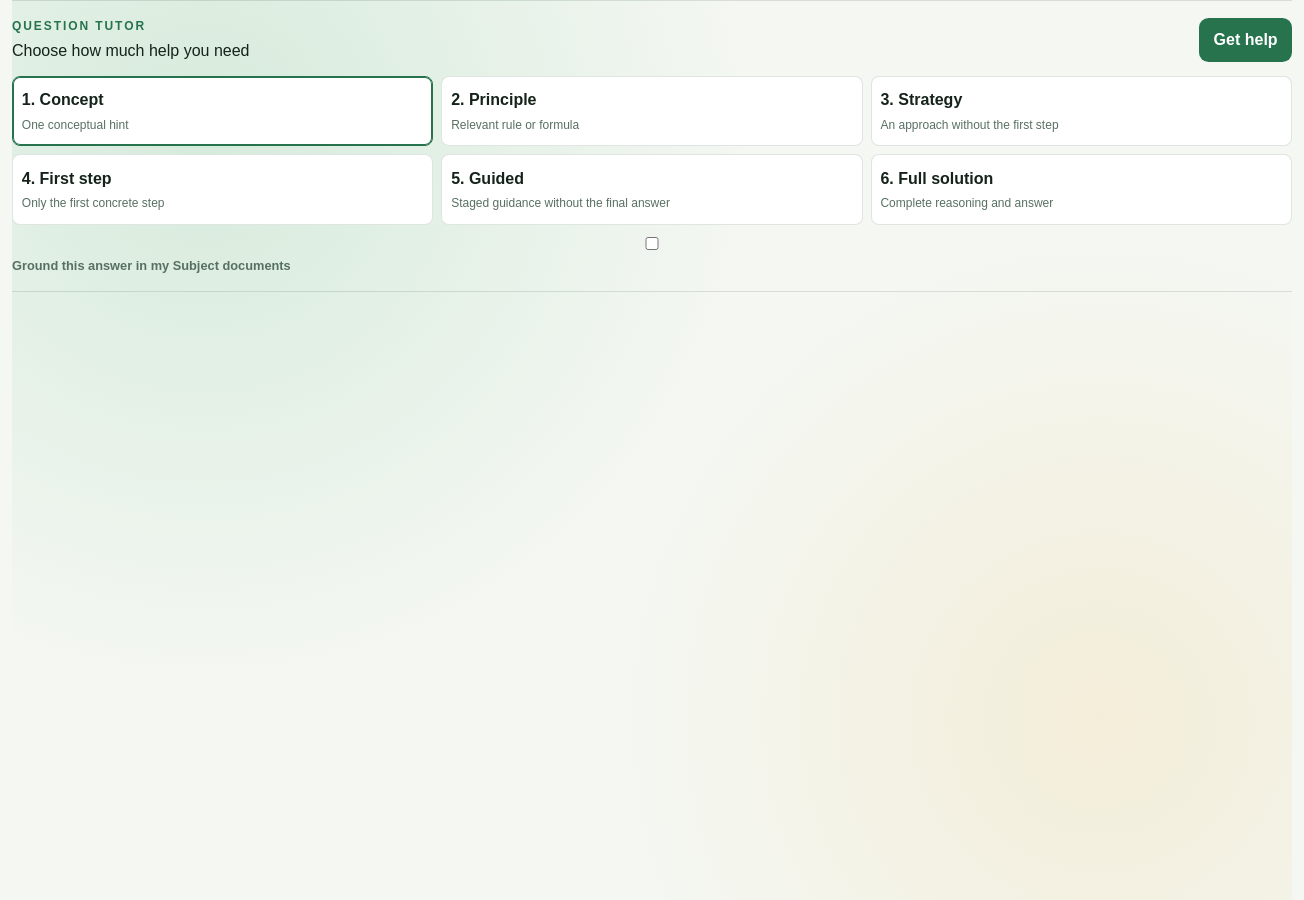
it: TutorPanel › renders explicit insufficient evidence without a fake empty answer
Click the checkbox labelled "Ground this answer in my Subject documents": (652, 244) x1=12 y1=237 x2=1292 y2=250
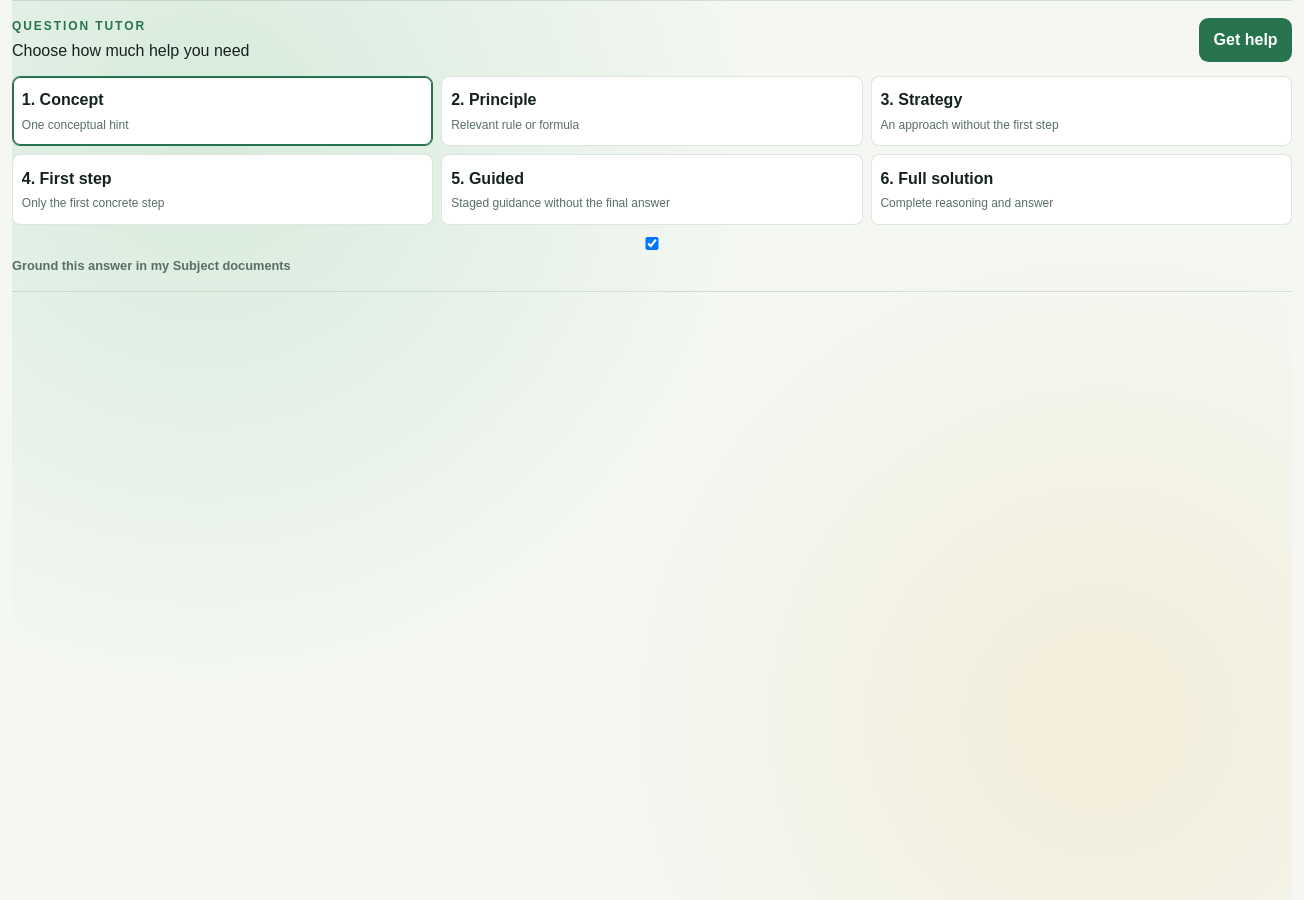
Click the button "Get help": (1246, 40) x1=1199 y1=18 x2=1292 y2=62
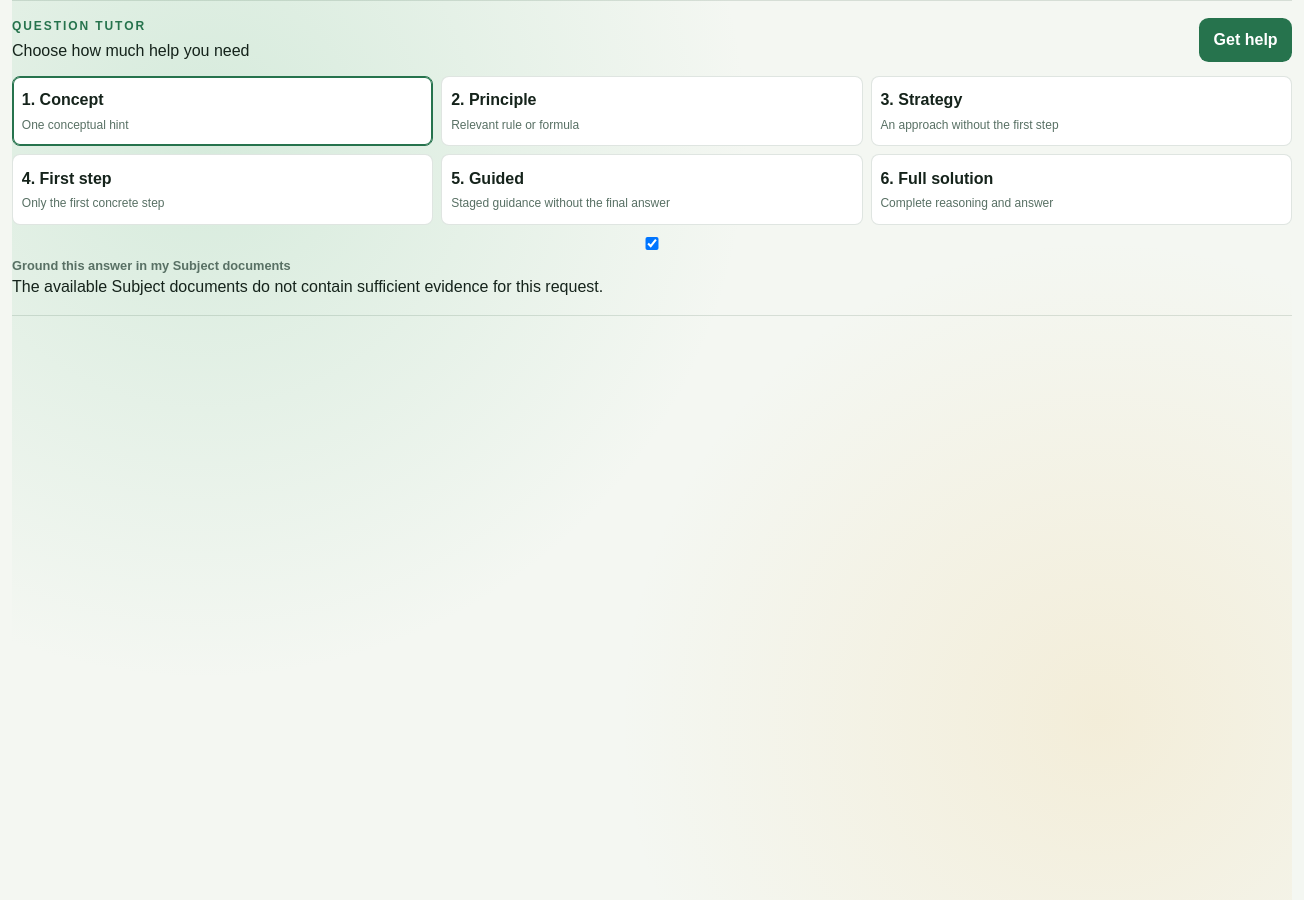
Check: the message shows "do not contain sufficient evidence", box x1=12 y1=278 x2=603 y2=295
